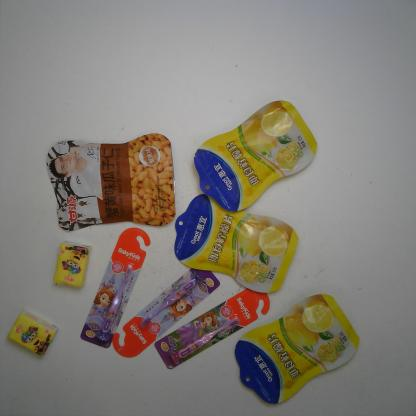Dried Fruit: (233, 293, 360, 406), (193, 99, 318, 211), (173, 193, 298, 296), (44, 132, 178, 228)
Personal Hygiene: (111, 268, 220, 358), (154, 287, 270, 369), (79, 228, 150, 348)
Tissue: (8, 312, 57, 358), (51, 242, 91, 288)
